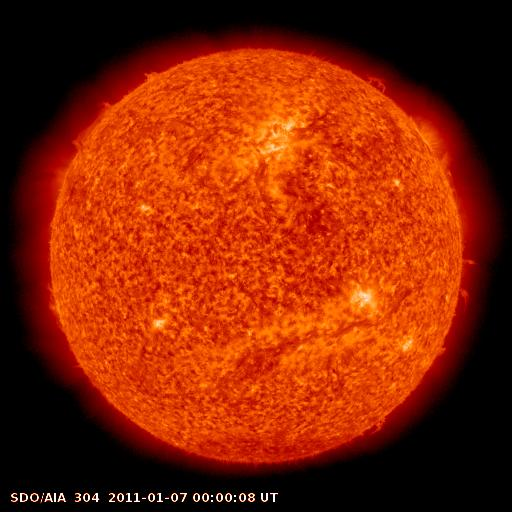prominence: (443, 245, 494, 324), (67, 93, 125, 161), (36, 268, 73, 330), (351, 405, 404, 445), (362, 61, 404, 104), (134, 61, 172, 99)
